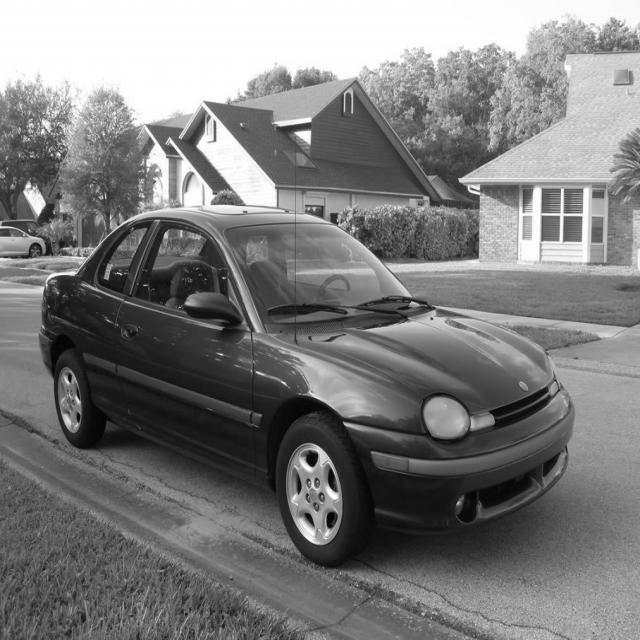Sedan: (39, 207, 576, 569)
